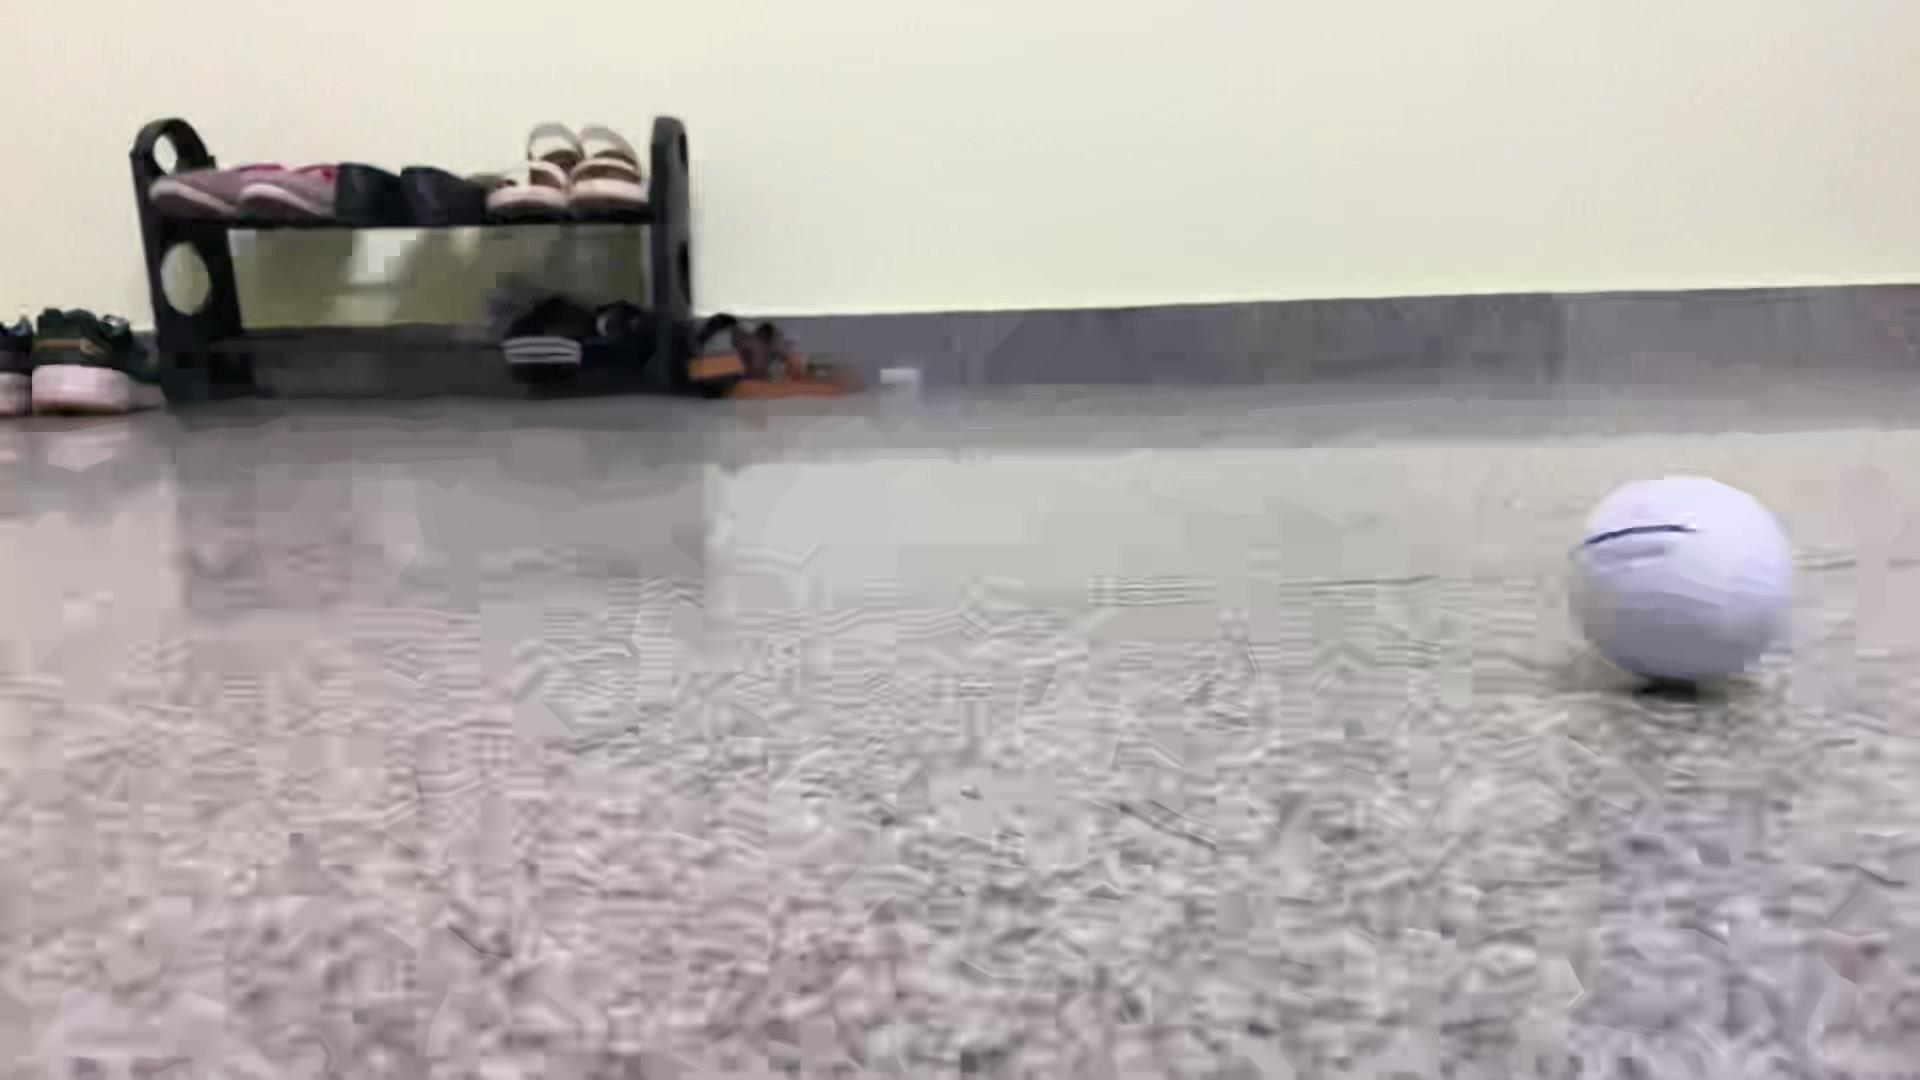golfball: (1565, 478, 1797, 684)
